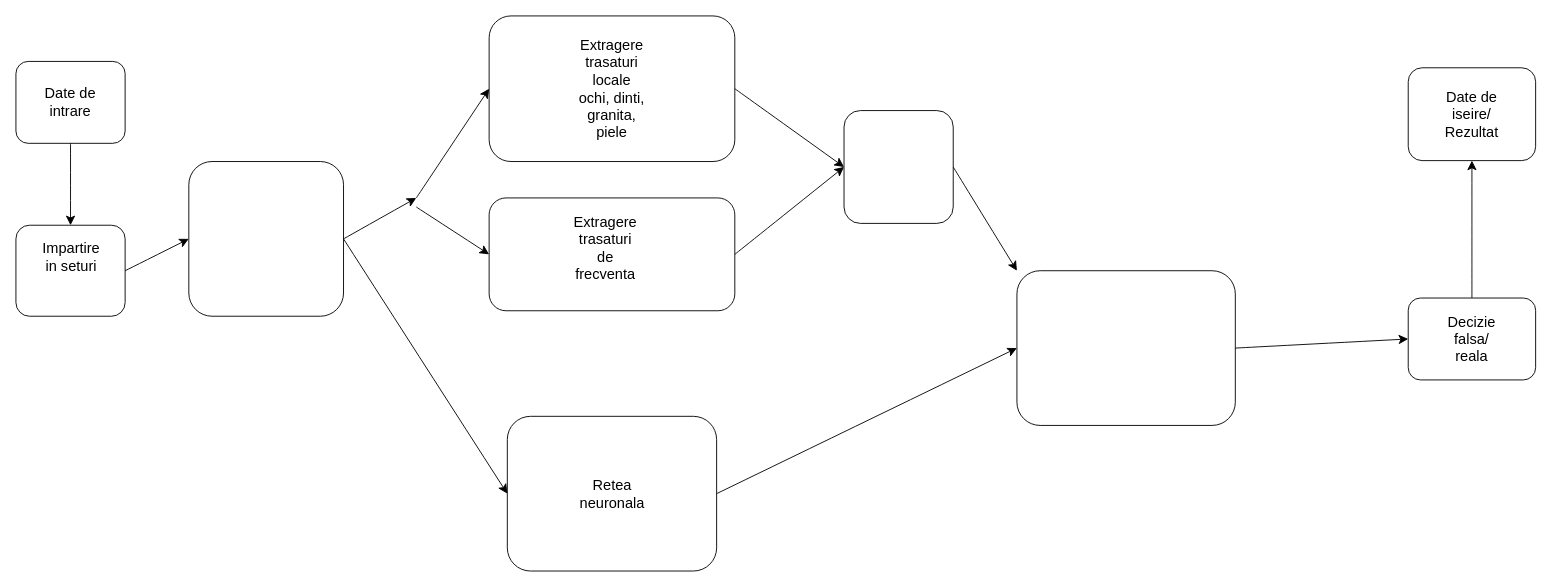
The diagram is 1552 pixels wide and 587 high, and some of its shapes have lost their labels. Here are the shapes that lost their labels. From the top down, the centre of each, then its label:
At (898,166): "SVM nota acordata".
At (266,238): "Preprocesare/ extragere fata si puncte".
At (1125,347): "Fuziunea notelor ambelor metode".
